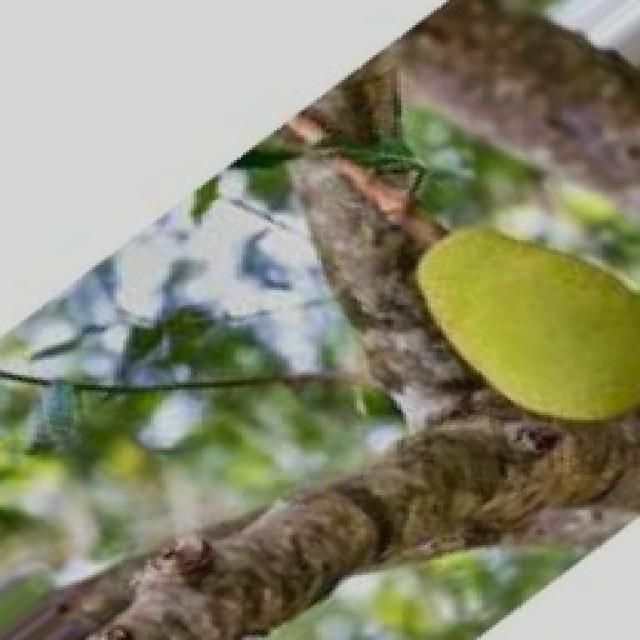Fruit: (391, 195, 640, 447)
